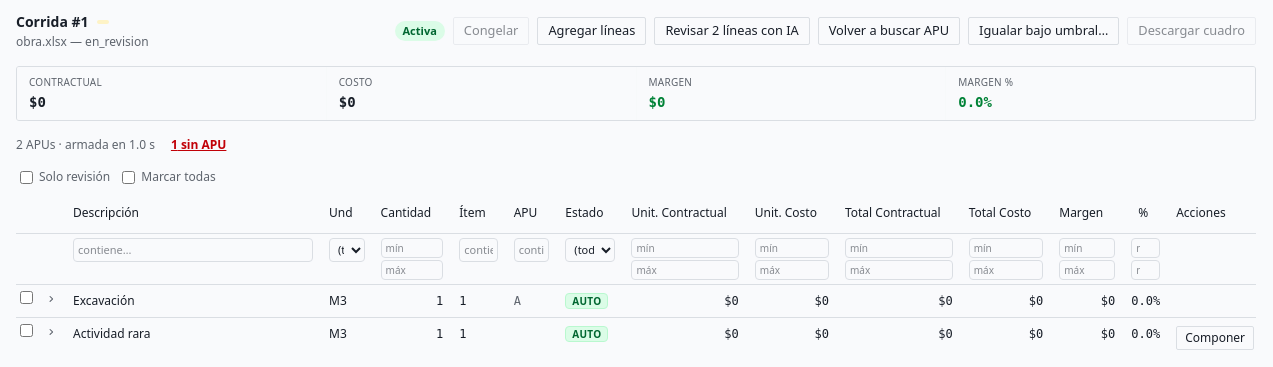
Test case: el contador de sin APU filtra la tabla a esas líneas
Expected: the text "Actividad rara" is shown, [73,324,151,342]
Click the button "1 sin APU": (199, 145) [171,137,226,153]
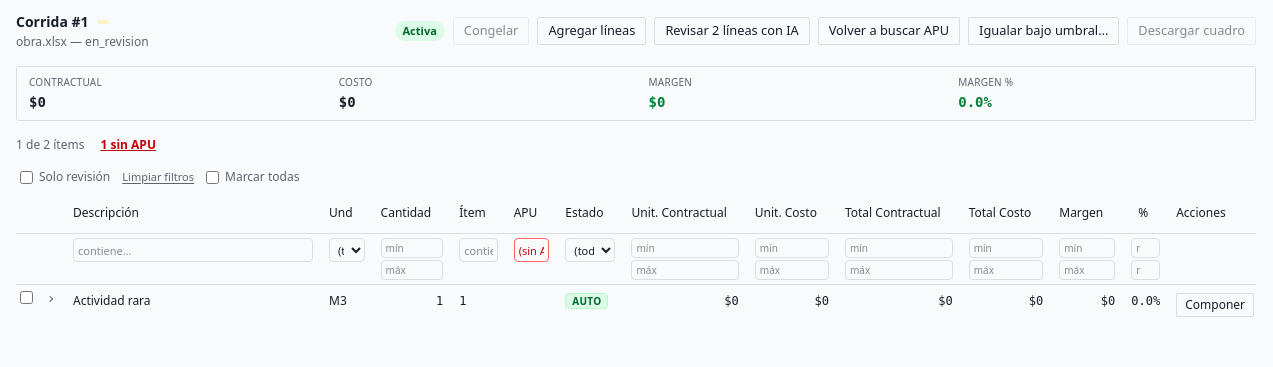
Expected: the text "Actividad rara" is shown, [73,292,151,309]
Expected: the text "Excavación" is gone
